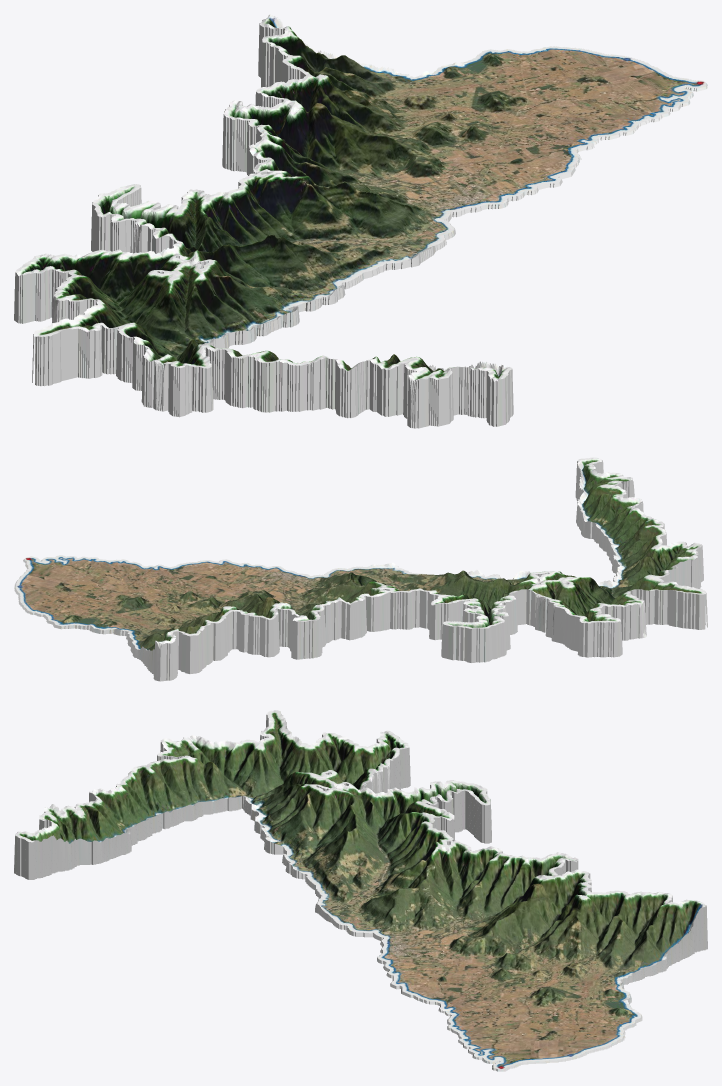
3 views of the same model, one above another, from view 1: azimuth 30°, elevation 25°; view 2: azimuth 150°, elevation 25°; view 3: azimuth 270°, elevation 25° (orthographic). The views are drawn at different scales.
Bounding box in the file's own units: 1 × 0.0643 × 0.909.
Materials: 1 (1 with a texture image).
